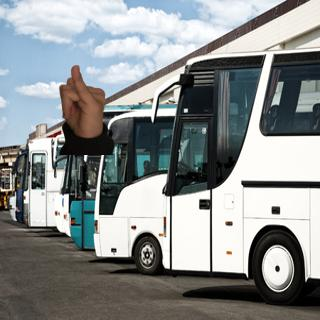HAVE: (51, 61, 112, 143)
